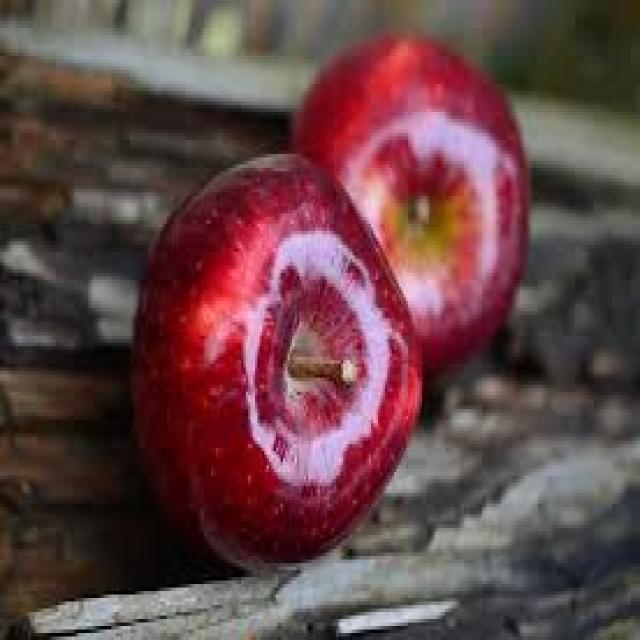organic waste: (123, 147, 422, 570), (290, 28, 526, 378)
